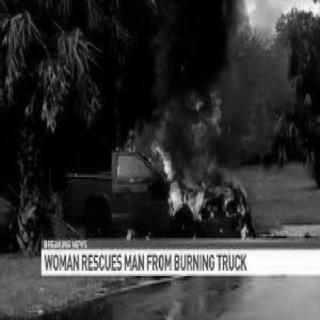Fire: (142, 93, 254, 241)
